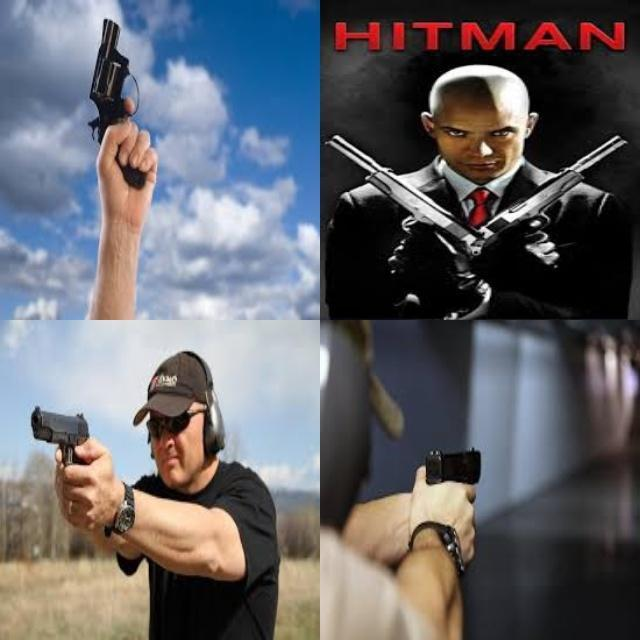gun-knife-thesis - v11 Yolov5 augmented: (325, 131, 471, 296), (493, 127, 625, 281), (86, 9, 149, 185), (24, 401, 107, 516), (419, 441, 497, 563)
